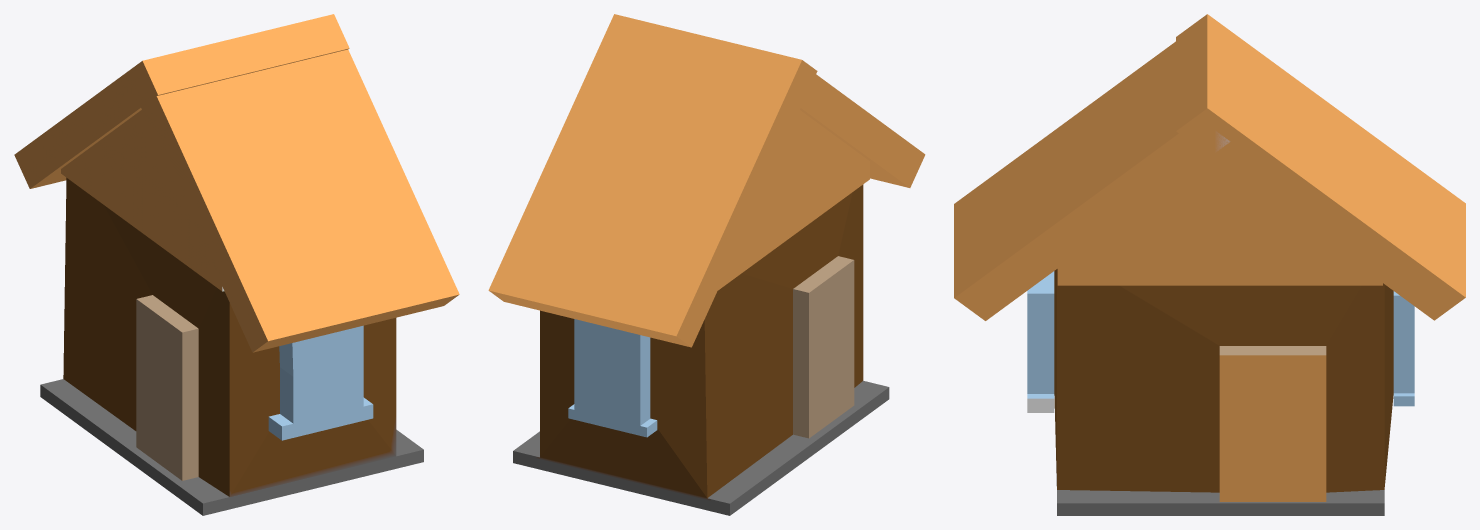
The model's file is woodHouseCar.dae.
3 views of the same model, side by side, from view 1: azimuth 30°, elevation 25°; view 2: azimuth 150°, elevation 25°; view 3: azimuth 270°, elevation 25° (orthographic). The views are drawn at different scales.
Visible parts, largest first — view 1: polySurface5_ncl1_1; view 2: polySurface5_ncl1_1; view 3: polySurface5_ncl1_1.
Boxes of the visible parts, x1,y1,x2,y2 form: polySurface5_ncl1_1: [14, 14, 459, 515]; polySurface5_ncl1_1: [488, 14, 925, 515]; polySurface5_ncl1_1: [954, 14, 1465, 515].
Bounding box in the file's own units: 116 × 200 × 231.
Materials: 1 (1 with a texture image).
